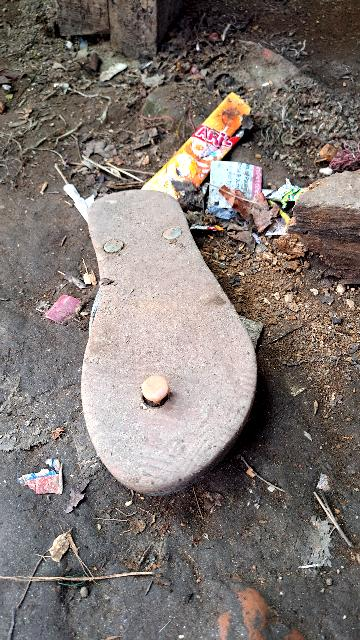sandal: (0, 138, 284, 508)
